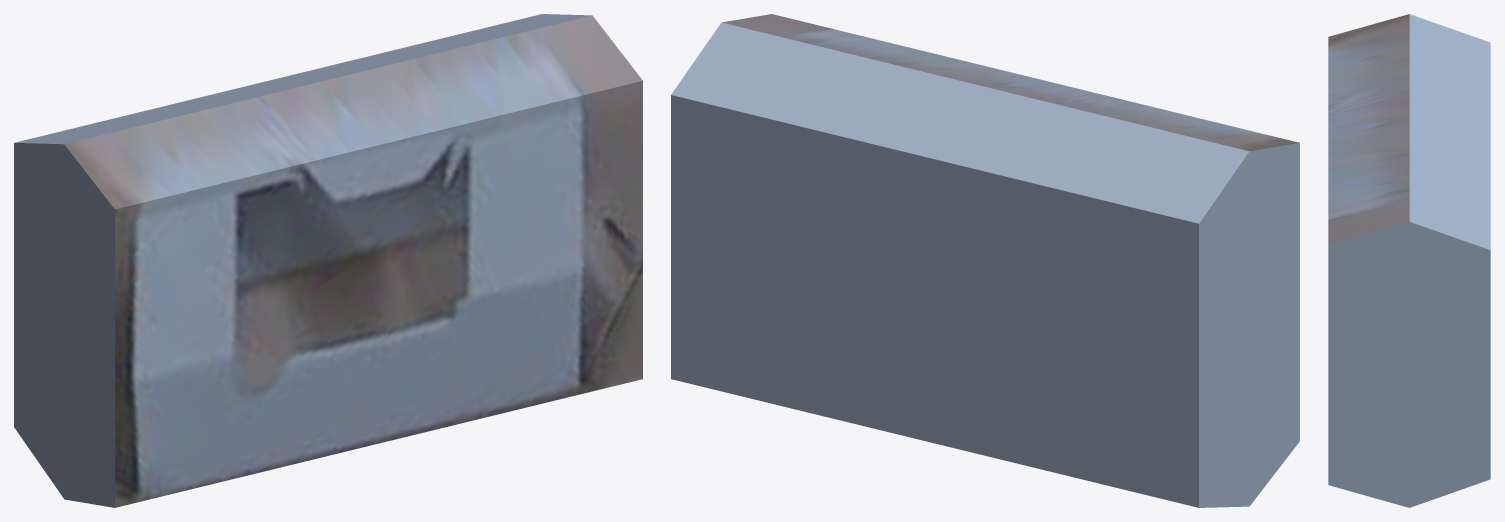
The picture shows the model from 3 angles, left to right: view 1: azimuth 30°, elevation 25°; view 2: azimuth 150°, elevation 25°; view 3: azimuth 270°, elevation 25°; orthographic projection. The views are drawn at different scales.
Bounding box in the file's own units: 0.1209 × 0.0777 × 0.04.
1 material, 1 textured.
